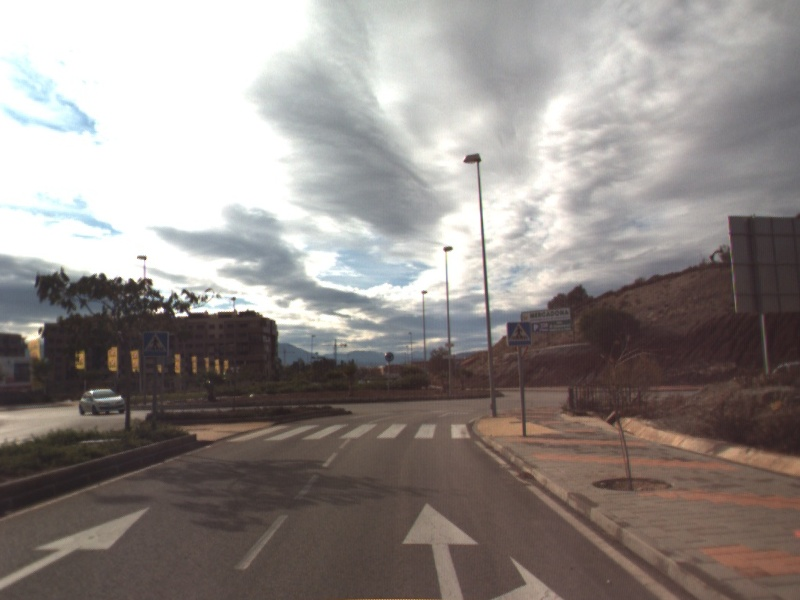STRAIGHT: (1, 505, 152, 592)
STRAIGHT_RIGHT: (399, 501, 569, 600)
